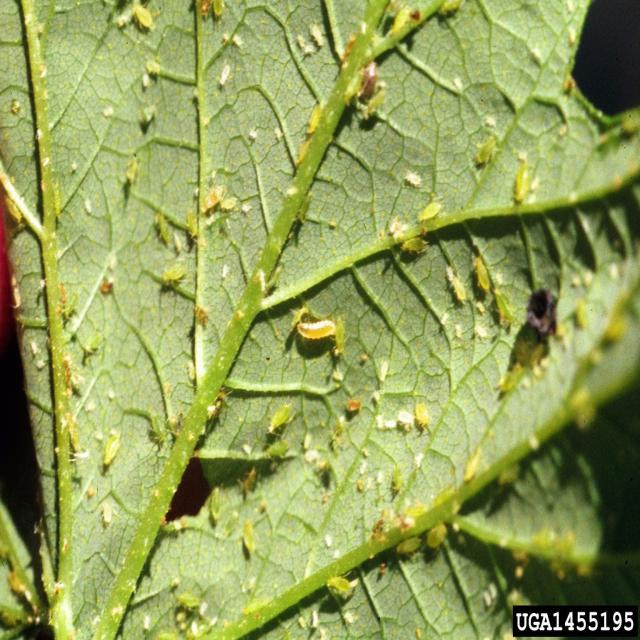Aphid-Grown-: (324, 567, 361, 609), (265, 400, 297, 440), (422, 521, 457, 555), (446, 266, 474, 308), (104, 425, 130, 469), (158, 260, 192, 292), (471, 252, 493, 296), (416, 196, 447, 225), (237, 513, 258, 555), (130, 3, 158, 34), (206, 484, 226, 524), (394, 528, 422, 556)
